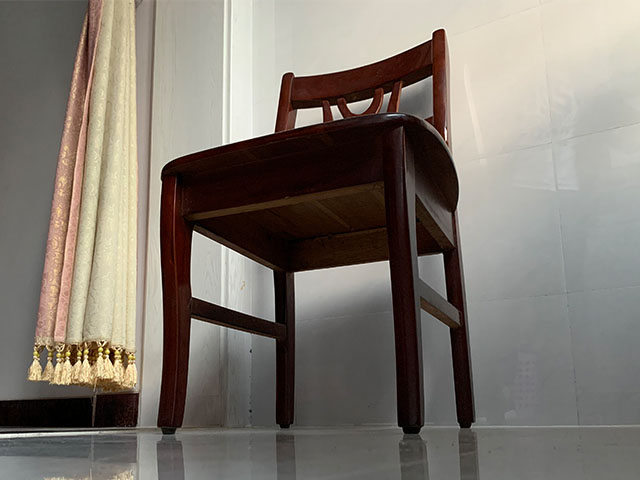curtain: (26, 1, 140, 393)
stool: (156, 27, 477, 435)
